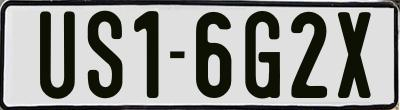1: (134, 8, 161, 101)
2: (290, 11, 329, 100)
6: (196, 10, 233, 102)
G: (245, 9, 283, 103)
S: (87, 10, 123, 101)
U: (39, 9, 79, 103)
X: (335, 9, 374, 100)
